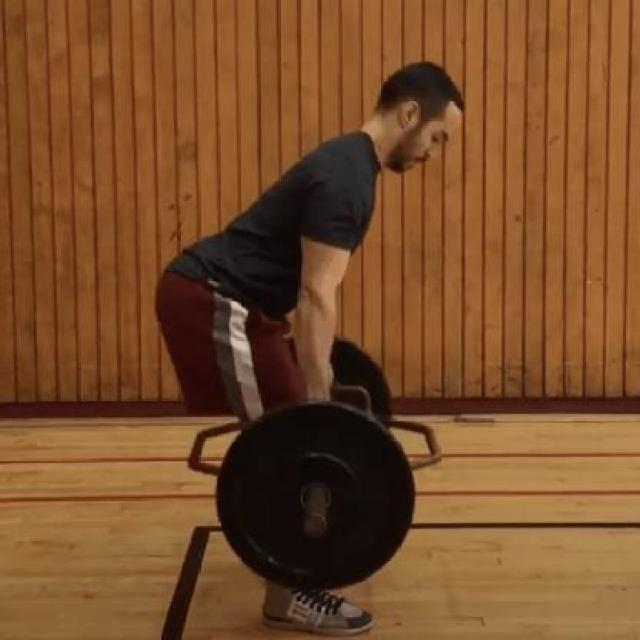Barbell: (299, 509, 332, 542)
